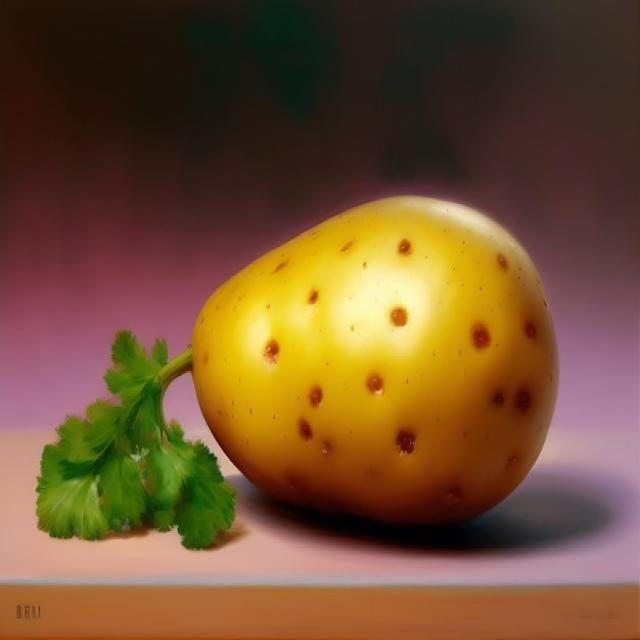Potato: (187, 146, 556, 537)
